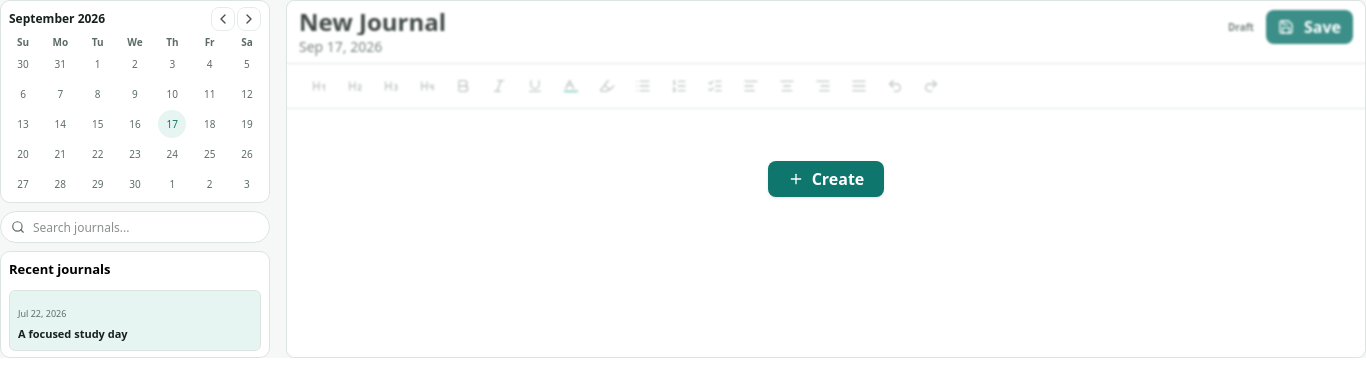
JournalPage workspace redesign › renders the approved full-width hierarchy for a persisted entry
The width and height of the screenshot is (1366, 375).
Click the button "Jul 22, 2026 A focused study day" at point(135, 320), box x1=9 y1=290 x2=261 y2=351
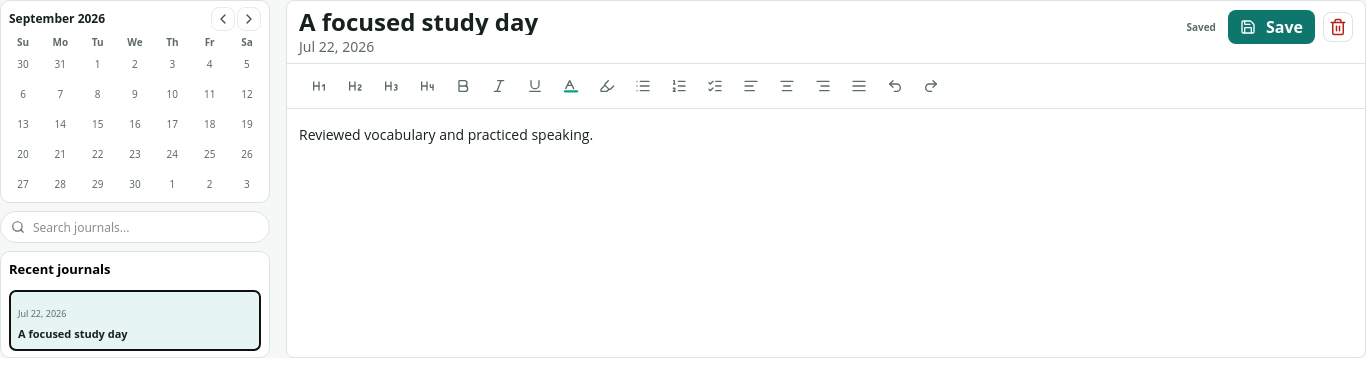
Expected: the field named "Journal title" holds "A focused study day", x1=299 y1=9 x2=1170 y2=35
Expected: the text with test id "journal-save-status" reads "Saved", x1=1186 y1=20 x2=1216 y2=34
